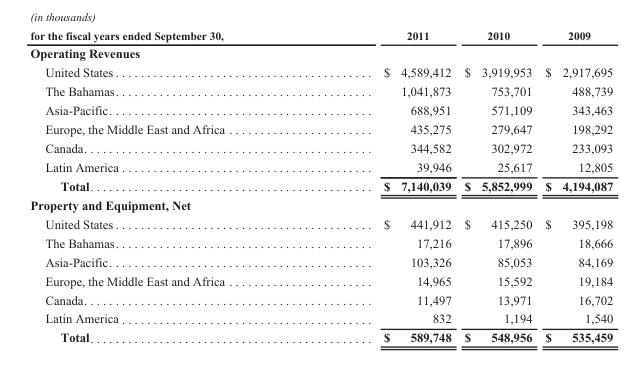table: (29, 28, 612, 344)
table column: (29, 28, 303, 344), (303, 28, 457, 344), (457, 28, 538, 344), (538, 28, 612, 344)
table column header: (29, 28, 612, 43)
table projected row header: (29, 43, 612, 62), (29, 195, 612, 214)
table row: (29, 43, 612, 62), (29, 62, 612, 81), (29, 81, 612, 100), (29, 100, 612, 119), (29, 119, 612, 138), (29, 138, 612, 157), (29, 157, 612, 176), (29, 176, 612, 195), (29, 195, 612, 214), (29, 232, 612, 251), (29, 251, 612, 270), (29, 270, 612, 289), (29, 289, 612, 308), (29, 308, 612, 327), (29, 214, 612, 232), (29, 327, 612, 344), (29, 28, 612, 43)
